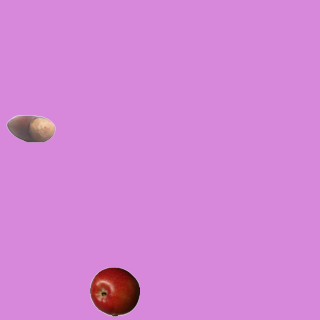Apple Braeburn: (89, 266, 139, 316)
Hazelnut: (5, 103, 55, 153)
